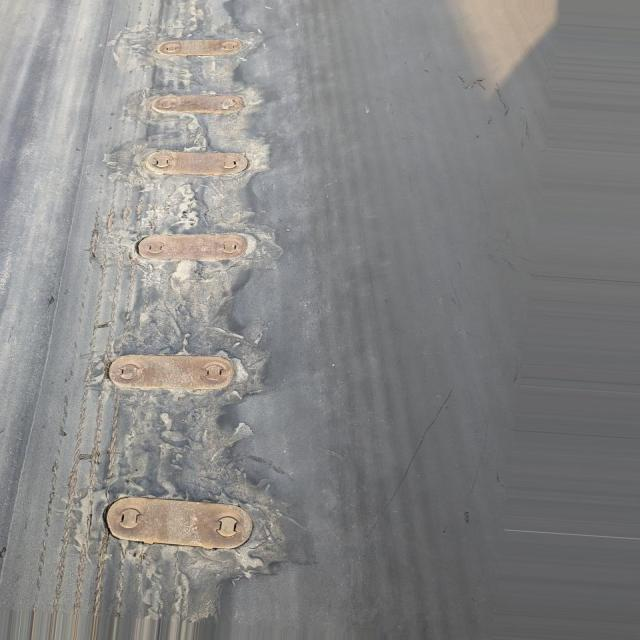patch work: (75, 23, 289, 598)
